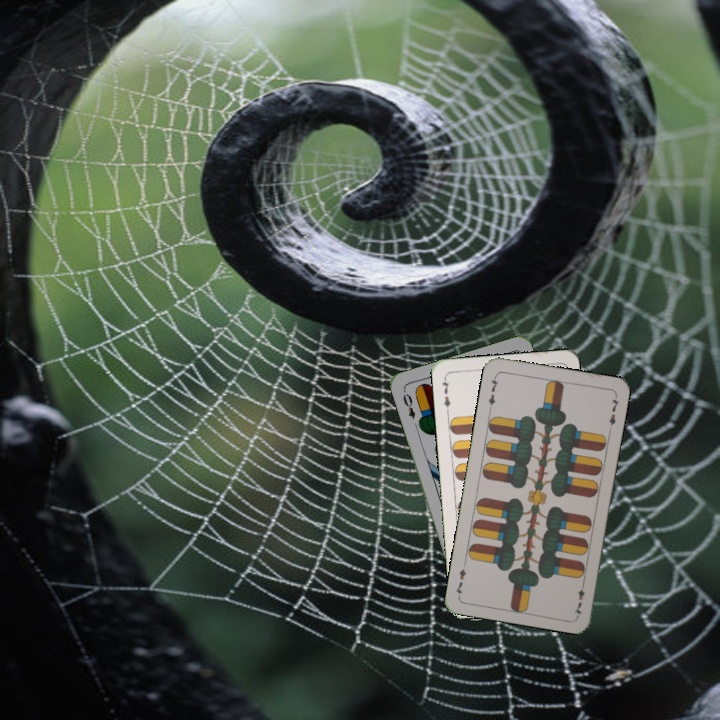E7: (570, 577, 587, 618), (484, 372, 501, 412), (438, 374, 453, 414)
EO: (399, 386, 418, 421)
